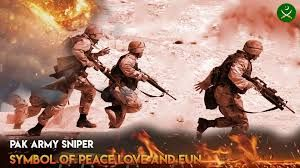gun: (229, 68, 293, 112), (81, 46, 129, 93), (129, 64, 178, 102)
uniform: (45, 23, 101, 137), (201, 29, 258, 141), (106, 33, 146, 129)
